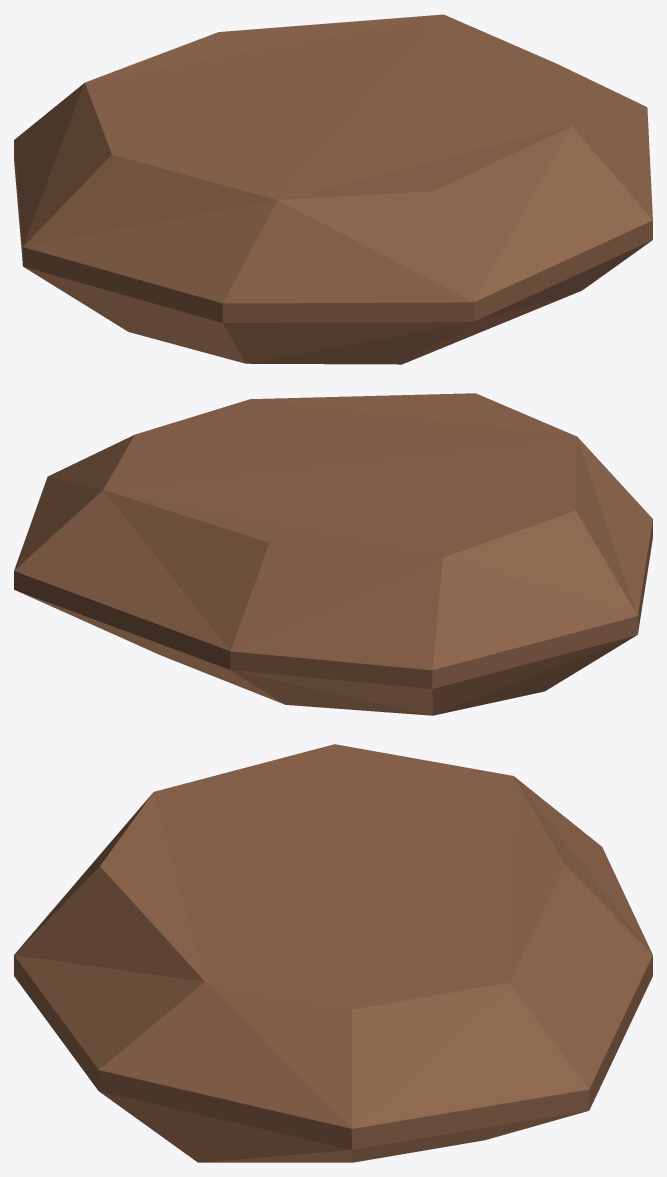
File: Rock #2.FBX
3 renders of one model, top to bottom at view 1: azimuth 30°, elevation 25°; view 2: azimuth 150°, elevation 25°; view 3: azimuth 270°, elevation 25°, orthographic. The views are drawn at different scales.
Parts seen in each view (by area): view 1: Box001; view 2: Box001; view 3: Box001.
Part boxes in pixels (left/top/right/bottom): Box001: left=14, top=14, right=652, bottom=364; Box001: left=14, top=393, right=652, bottom=715; Box001: left=14, top=744, right=652, bottom=1162.
Bounding box in the file's own units: 25.01 × 7.28 × 20.65.
